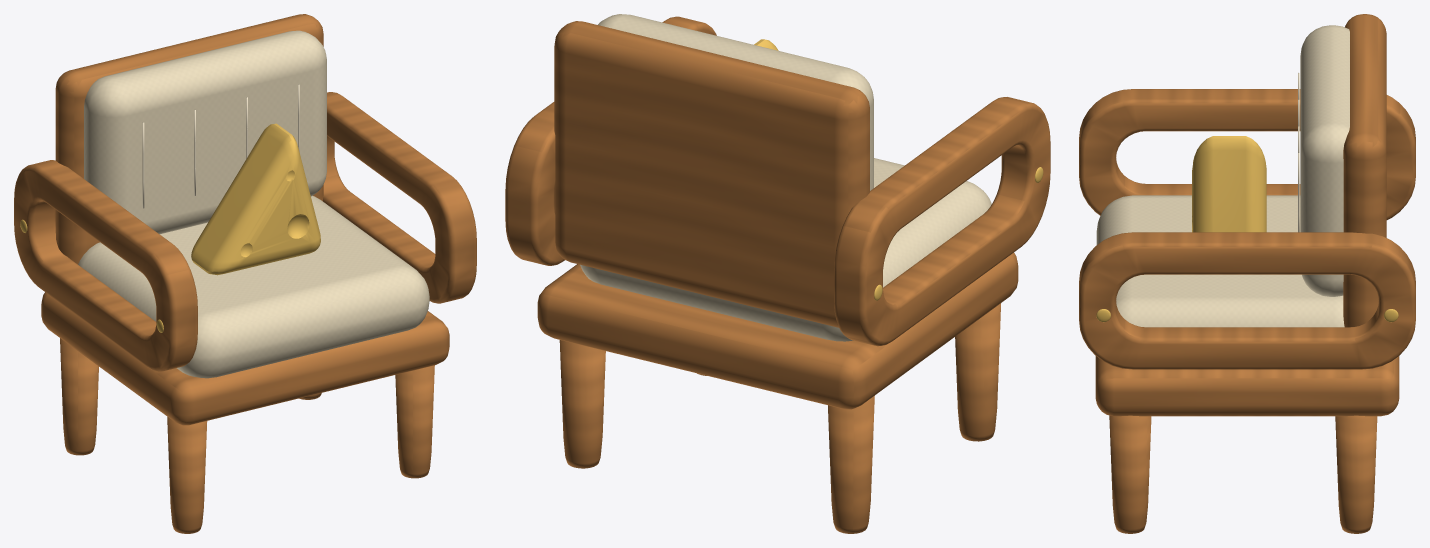
Rendered from CozyChair.fbx.
The picture shows the model from 3 angles, left to right: view 1: azimuth 30°, elevation 25°; view 2: azimuth 150°, elevation 25°; view 3: azimuth 270°, elevation 25°; orthographic projection. The views are drawn at different scales.
Visible parts, largest first — view 1: CozyChair; view 2: CozyChair; view 3: CozyChair.
Boxes of the visible parts, x1=… form: CozyChair: x1=14, y1=14, x2=476, y2=533; CozyChair: x1=505, y1=14, x2=1050, y2=533; CozyChair: x1=1079, y1=14, x2=1415, y2=533.
Bounding box in the file's own units: 91.6 × 106 × 82.
Materials: 1 (1 with a texture image).
